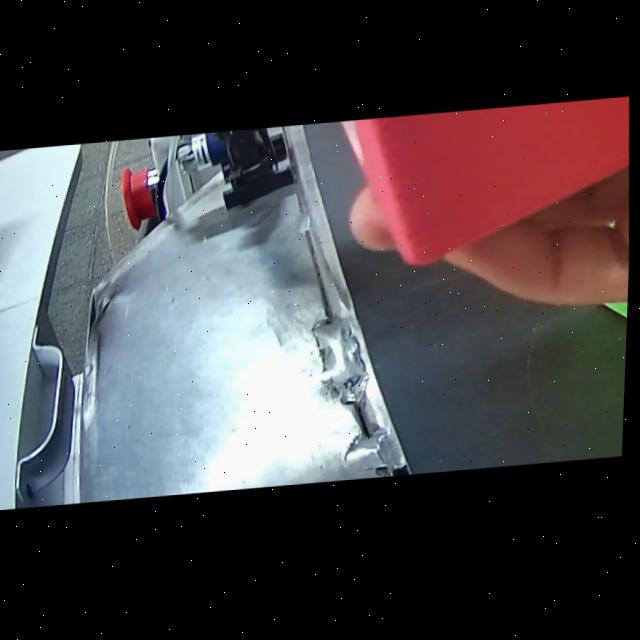greenBox: (603, 221, 633, 397)
redBox: (282, 103, 635, 291)
